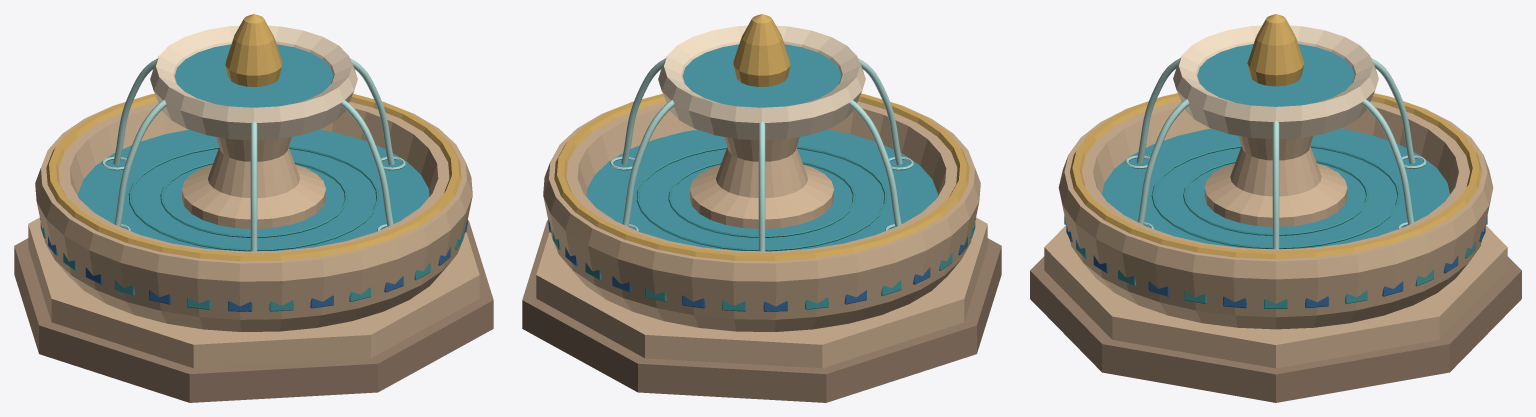
The model's file is Obstacle_Fountain_Detailed.glb.
The picture shows the model from 3 angles, left to right: view 1: azimuth 30°, elevation 25°; view 2: azimuth 150°, elevation 25°; view 3: azimuth 270°, elevation 25°; orthographic projection.
Visible parts, largest first — view 1: Mosaic fountain - Warm limestone, Mosaic fountain - Basin water, Mosaic fountain - Carved stone recess, Mosaic fountain - Ivory ceramic, Mosaic fountain - Aged brass, Mosaic fountain - Water highlights, Mosaic fountain - Turquoise mosaic, Mosaic fountain - Iznik blue enamel; view 2: Mosaic fountain - Warm limestone, Mosaic fountain - Basin water, Mosaic fountain - Carved stone recess, Mosaic fountain - Ivory ceramic, Mosaic fountain - Aged brass, Mosaic fountain - Water highlights, Mosaic fountain - Turquoise mosaic, Mosaic fountain - Iznik blue enamel; view 3: Mosaic fountain - Warm limestone, Mosaic fountain - Basin water, Mosaic fountain - Carved stone recess, Mosaic fountain - Ivory ceramic, Mosaic fountain - Aged brass, Mosaic fountain - Water highlights, Mosaic fountain - Turquoise mosaic, Mosaic fountain - Iznik blue enamel.
Part boxes in pixels (x1,y1,x2,y2): Mosaic fountain - Warm limestone: [28, 101, 479, 368]; Mosaic fountain - Basin water: [78, 44, 429, 251]; Mosaic fountain - Carved stone recess: [14, 220, 493, 402]; Mosaic fountain - Ivory ceramic: [150, 25, 357, 140]; Mosaic fountain - Aged brass: [46, 14, 461, 261]; Mosaic fountain - Water highlights: [102, 58, 405, 251]; Mosaic fountain - Turquoise mosaic: [40, 146, 463, 311]; Mosaic fountain - Iznik blue enamel: [40, 219, 467, 311]; Mosaic fountain - Warm limestone: [536, 101, 987, 368]; Mosaic fountain - Basin water: [586, 44, 937, 251]; Mosaic fountain - Carved stone recess: [522, 220, 1001, 402]; Mosaic fountain - Ivory ceramic: [658, 25, 865, 140]; Mosaic fountain - Aged brass: [554, 14, 969, 261]; Mosaic fountain - Water highlights: [610, 58, 913, 251]; Mosaic fountain - Turquoise mosaic: [552, 146, 975, 311]; Mosaic fountain - Iznik blue enamel: [548, 219, 975, 311]; Mosaic fountain - Warm limestone: [1044, 97, 1507, 368]; Mosaic fountain - Basin water: [1102, 44, 1449, 249]; Mosaic fountain - Carved stone recess: [1030, 256, 1521, 402]; Mosaic fountain - Ivory ceramic: [1173, 25, 1378, 139]; Mosaic fountain - Aged brass: [1070, 14, 1481, 259]; Mosaic fountain - Water highlights: [1125, 58, 1426, 249]; Mosaic fountain - Turquoise mosaic: [1064, 145, 1487, 308]; Mosaic fountain - Iznik blue enamel: [1066, 224, 1485, 308].
Bounding box in the file's own units: 1.72 × 1.1 × 1.72.
